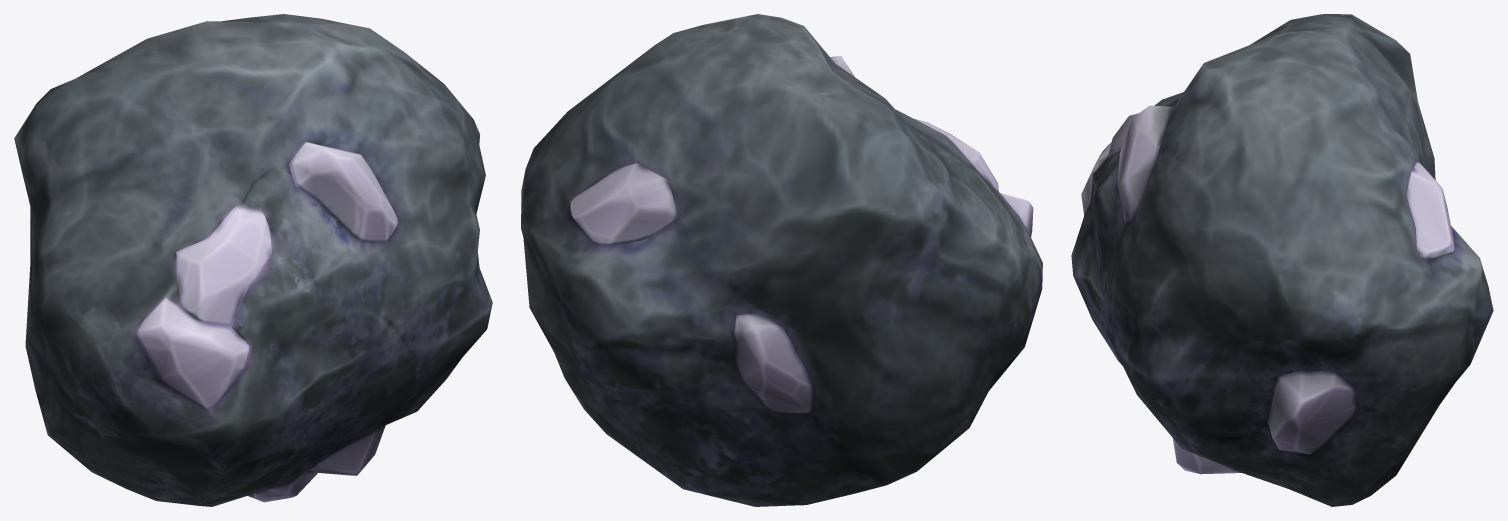
File: SM_Gem_Diamond_004.fbx
3 renders of one model, left to right at view 1: azimuth 30°, elevation 25°; view 2: azimuth 150°, elevation 25°; view 3: azimuth 270°, elevation 25°, orthographic. The views are drawn at different scales.
Parts seen in each view (by area): view 1: SM_Gem_Diamond_004; view 2: SM_Gem_Diamond_004; view 3: SM_Gem_Diamond_004.
Part boxes in pixels (<box>): SM_Gem_Diamond_004: <box>14,14,492,506</box>; SM_Gem_Diamond_004: <box>521,14,1042,506</box>; SM_Gem_Diamond_004: <box>1071,14,1493,506</box>.
Size of the model in its own units: 62.48 by 59.19 by 50.65.
